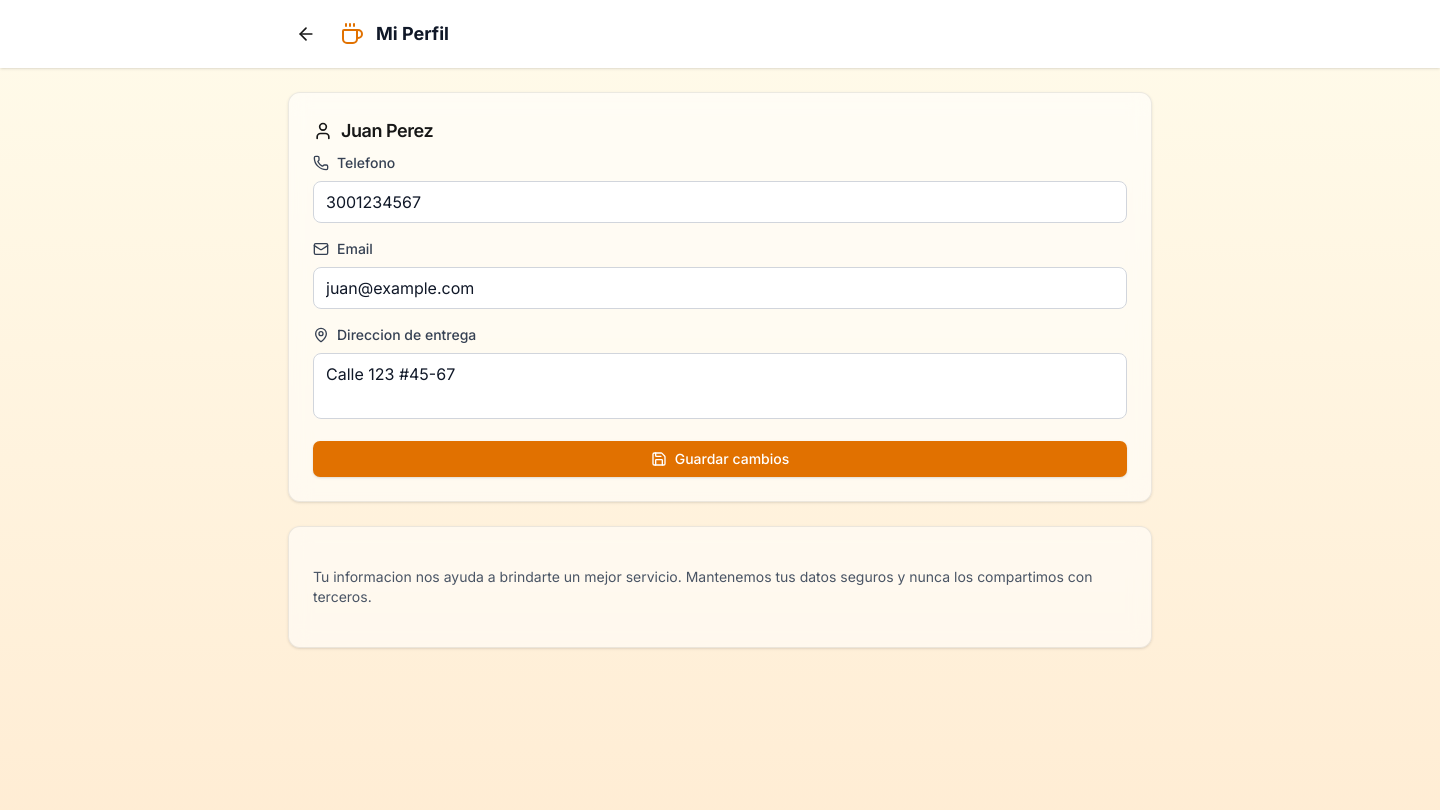
PortalPerfilPage › Error Handling › should show error when save fails with Supabase error
Expected: the field showing "3001234567" below "Telefono" is shown, [313, 181, 1127, 223]
Click the button "Guardar cambios" at (720, 459), box [313, 441, 1127, 477]
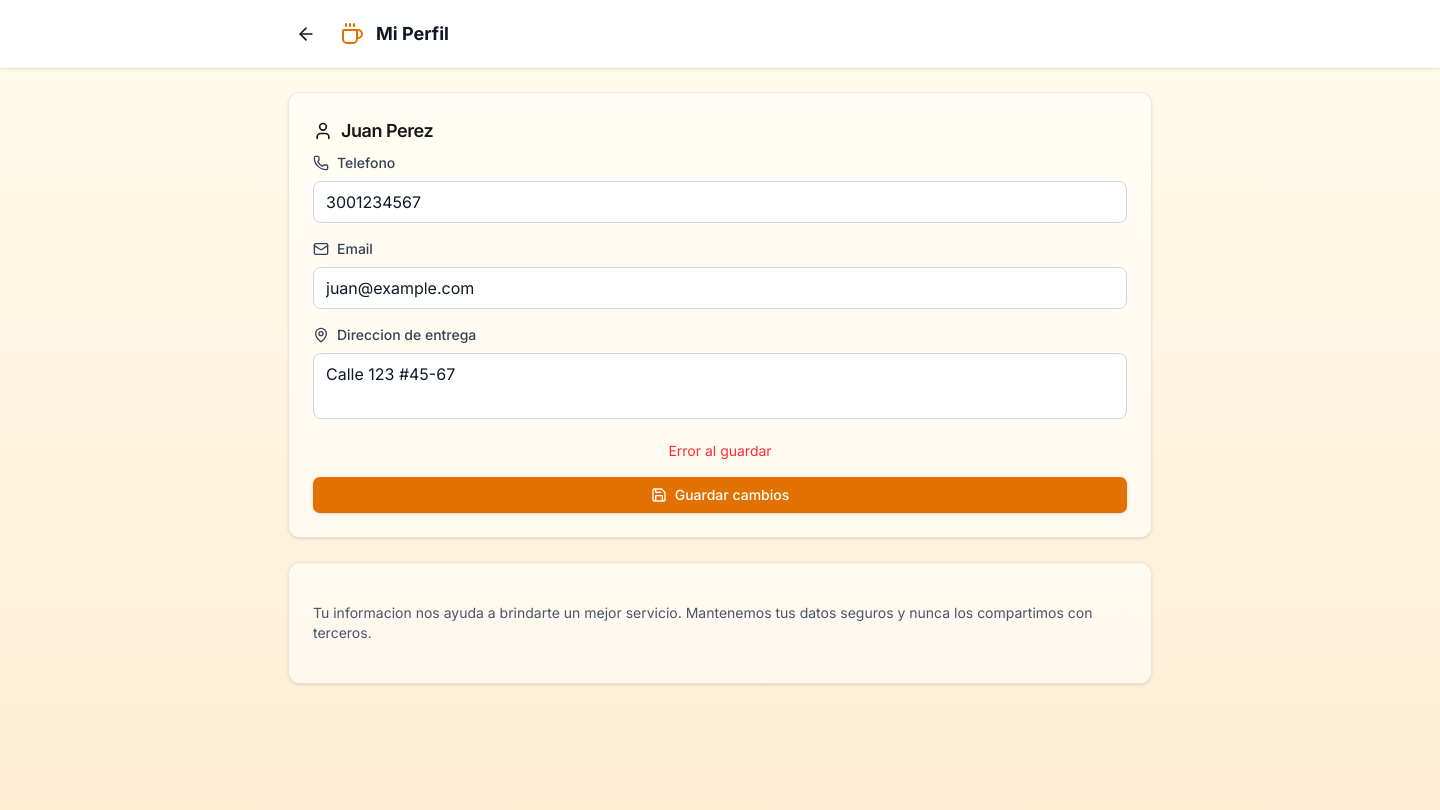
Expected: the text "Error al guardar" is shown, [668, 442, 772, 459]
